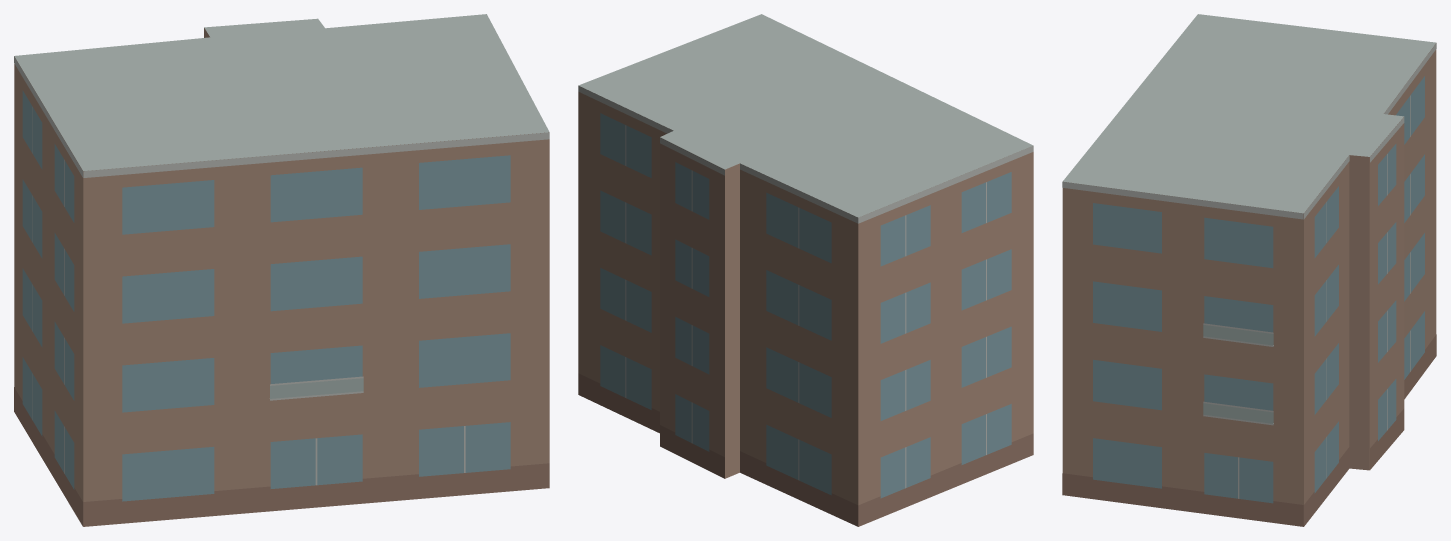
File: survey-upis-32951725.glb
3 views of the same model, side by side, from view 1: azimuth 30°, elevation 25°; view 2: azimuth 150°, elevation 25°; view 3: azimuth 270°, elevation 25° (orthographic). The views are drawn at different scales.
Visible parts, largest first — view 1: survey-upis-32951725.tmp; view 2: survey-upis-32951725.tmp; view 3: survey-upis-32951725.tmp.
Boxes of the visible parts, box(x1,y1,x2,y2) form: survey-upis-32951725.tmp: box(14, 14, 549, 526); survey-upis-32951725.tmp: box(578, 14, 1033, 526); survey-upis-32951725.tmp: box(1062, 14, 1436, 526).
Size of the model in its own units: 16.93 by 12.4 by 13.42.
